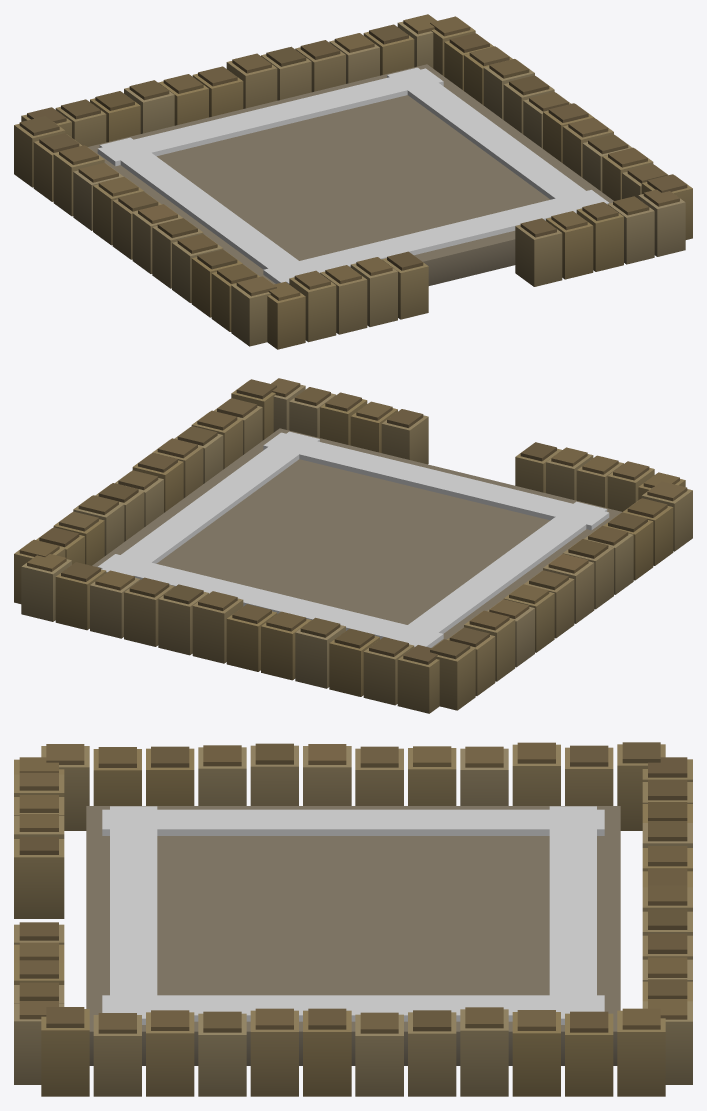
The model's file is m_sam_ee6baada.glb.
3 renders of one model, top to bottom at view 1: azimuth 30°, elevation 25°; view 2: azimuth 150°, elevation 25°; view 3: azimuth 270°, elevation 25°, orthographic. The views are drawn at different scales.
Visible parts, largest first — view 1: mesh; view 2: mesh; view 3: mesh.
Part boxes in pixels (box(x1,y1,x2,y2)): mesh: box(14, 14, 692, 349); mesh: box(14, 378, 692, 713); mesh: box(14, 742, 692, 1096).
Bounding box in the file's own units: 43.11 × 4.97 × 43.11.
